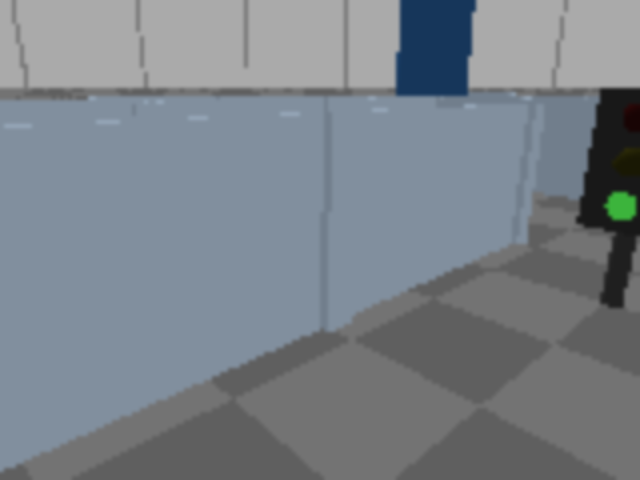traffic_light: (563, 74, 638, 326)
